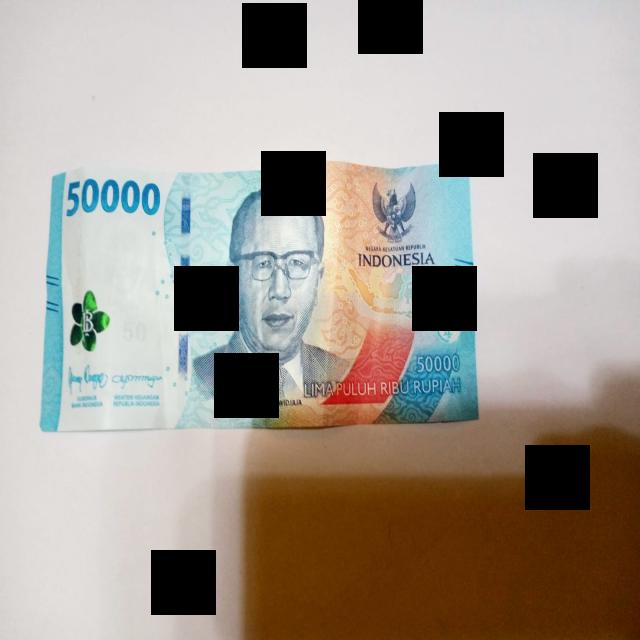lima puluh ribu rupiah: (41, 162, 478, 431)
